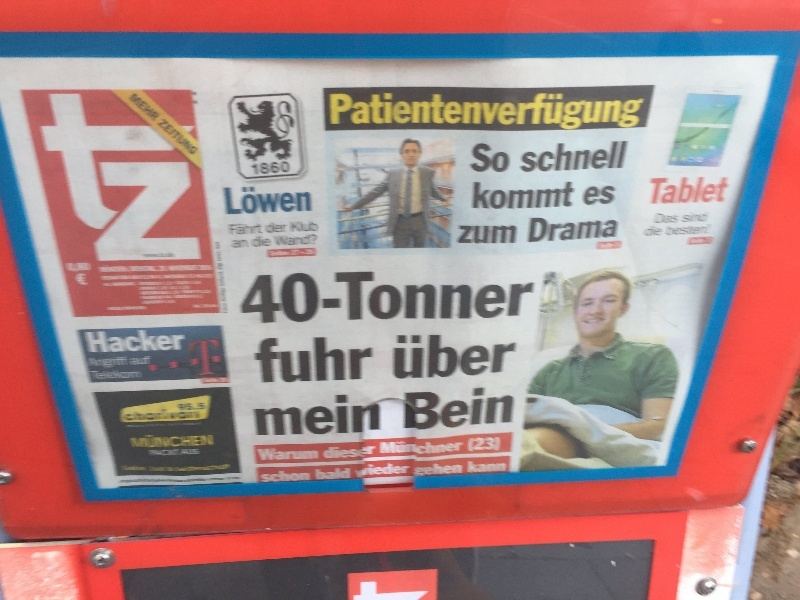text: (33, 87, 48, 269), (49, 87, 64, 269), (65, 87, 80, 269), (81, 87, 96, 269), (97, 87, 112, 269), (113, 87, 128, 269), (129, 87, 144, 269), (145, 87, 160, 269), (161, 87, 176, 269), (177, 87, 192, 269), (193, 87, 208, 269), (145, 86, 160, 163), (161, 86, 176, 163), (177, 86, 192, 163), (131, 86, 144, 163), (241, 267, 256, 329), (257, 267, 272, 329), (273, 267, 288, 329), (289, 267, 304, 329), (305, 267, 320, 329), (321, 267, 336, 329), (337, 267, 352, 329), (353, 267, 368, 329), (369, 267, 384, 329), (385, 267, 400, 329), (401, 267, 416, 329), (417, 267, 432, 329), (433, 267, 448, 329), (449, 267, 464, 329), (465, 267, 480, 329), (481, 267, 496, 329), (497, 267, 512, 329), (513, 267, 528, 329), (193, 86, 205, 163), (209, 87, 214, 269), (257, 328, 272, 386), (273, 328, 288, 386), (289, 328, 304, 386), (305, 328, 320, 386), (321, 328, 336, 386), (337, 328, 352, 386), (353, 328, 368, 386), (401, 333, 416, 386), (417, 333, 432, 386), (433, 333, 448, 386), (449, 333, 464, 386), (465, 333, 480, 386), (481, 333, 496, 386), (497, 333, 512, 386), (113, 264, 128, 316), (129, 264, 144, 316), (145, 264, 160, 316), (161, 264, 176, 316), (177, 264, 192, 316), (193, 264, 208, 316), (257, 387, 272, 438), (273, 387, 288, 438), (289, 387, 304, 438), (305, 387, 320, 438), (321, 387, 336, 438), (337, 387, 352, 438), (353, 387, 368, 438), (369, 387, 384, 438), (28, 87, 32, 269), (417, 387, 432, 434), (433, 387, 448, 434), (449, 387, 464, 434), (465, 387, 480, 434), (481, 387, 496, 434), (497, 387, 512, 434), (99, 264, 112, 316), (193, 338, 208, 380), (529, 267, 539, 329), (337, 92, 352, 133), (353, 92, 368, 133), (369, 92, 384, 133), (385, 92, 400, 133), (401, 92, 416, 133), (417, 92, 432, 133), (433, 92, 448, 133), (449, 92, 464, 133), (465, 92, 480, 133), (481, 92, 496, 133), (497, 92, 512, 133), (513, 92, 528, 133), (529, 92, 544, 133), (545, 92, 560, 133), (561, 92, 576, 133), (577, 92, 592, 133), (593, 92, 608, 133), (609, 92, 624, 133), (625, 92, 640, 133), (389, 333, 400, 386), (404, 387, 416, 434), (209, 338, 222, 380), (529, 139, 544, 175), (545, 139, 560, 175), (561, 139, 576, 175), (577, 139, 592, 175), (593, 139, 608, 175), (609, 139, 624, 175), (561, 178, 577, 211), (225, 183, 240, 218), (241, 183, 256, 218), (257, 183, 272, 218), (273, 183, 288, 218), (289, 183, 304, 218), (209, 264, 219, 316), (481, 178, 496, 211), (497, 178, 512, 211), (513, 178, 528, 211), (529, 178, 544, 211), (545, 178, 560, 211), (481, 143, 496, 175), (497, 143, 512, 175), (129, 396, 144, 428), (145, 396, 160, 428), (161, 396, 176, 428), (177, 396, 192, 428), (193, 396, 208, 428), (97, 327, 112, 358), (113, 327, 128, 358), (129, 327, 144, 358), (145, 327, 160, 358), (161, 327, 176, 358), (657, 177, 672, 207), (673, 177, 688, 207), (689, 177, 704, 207), (705, 177, 720, 207), (82, 327, 96, 358), (513, 333, 521, 386), (545, 218, 560, 246), (561, 218, 576, 246), (577, 218, 592, 246), (593, 218, 608, 246), (249, 328, 256, 386), (369, 328, 376, 386), (593, 183, 608, 210), (530, 218, 544, 246), (609, 218, 623, 246), (721, 177, 734, 207), (177, 327, 188, 358), (465, 223, 480, 245), (481, 223, 496, 245), (497, 223, 512, 245), (328, 92, 336, 133), (66, 263, 80, 286), (305, 183, 314, 218), (471, 178, 480, 211), (471, 143, 480, 175), (449, 461, 465, 479), (81, 263, 93, 286), (582, 183, 592, 210), (353, 462, 368, 480), (369, 462, 384, 480), (385, 462, 400, 480), (417, 461, 432, 479), (433, 461, 448, 479), (257, 159, 272, 177), (273, 159, 288, 177), (481, 437, 496, 455), (257, 446, 272, 463), (273, 446, 288, 463), (289, 446, 304, 463), (305, 446, 320, 463), (129, 433, 144, 450), (145, 433, 160, 450), (161, 433, 176, 450), (177, 433, 192, 450), (193, 433, 208, 450), (521, 139, 528, 175), (625, 139, 632, 175), (641, 92, 647, 133), (609, 183, 618, 210), (648, 177, 656, 207), (273, 468, 288, 484), (289, 468, 304, 484), (337, 445, 352, 461), (353, 445, 368, 461), (257, 236, 273, 251), (513, 387, 518, 434), (321, 467, 336, 482), (241, 222, 256, 237), (322, 445, 336, 461), (305, 219, 321, 233), (121, 396, 128, 428), (468, 437, 480, 455), (337, 467, 351, 482), (385, 441, 400, 455), (401, 441, 416, 455), (417, 441, 432, 455), (433, 441, 448, 455), (449, 441, 464, 455), (273, 233, 288, 247), (289, 233, 304, 247), (305, 233, 320, 247), (289, 219, 304, 233), (226, 222, 240, 237), (657, 212, 672, 226), (689, 211, 704, 225), (97, 356, 112, 370), (113, 356, 128, 370), (129, 356, 144, 370), (259, 468, 272, 484), (252, 387, 256, 438), (401, 462, 412, 480), (481, 461, 496, 474), (237, 267, 240, 329), (673, 225, 688, 237), (689, 225, 704, 237), (467, 461, 480, 474), (273, 223, 288, 234), (457, 223, 464, 245), (97, 370, 112, 380), (113, 370, 128, 380), (369, 445, 378, 461), (248, 159, 256, 177), (220, 183, 224, 218), (129, 370, 143, 380), (257, 222, 266, 237), (161, 448, 176, 457), (177, 448, 192, 457), (513, 223, 519, 245), (644, 226, 656, 237), (497, 461, 507, 474), (189, 338, 192, 380), (497, 437, 504, 455), (129, 464, 144, 472), (145, 464, 160, 472), (161, 464, 176, 472), (177, 464, 192, 472), (193, 464, 208, 472), (209, 464, 224, 472), (209, 433, 216, 450), (147, 448, 160, 457), (305, 468, 312, 484), (231, 238, 240, 250), (241, 238, 250, 250), (673, 212, 680, 226), (89, 356, 96, 370), (209, 396, 212, 428), (705, 225, 713, 237), (314, 467, 320, 482), (657, 226, 665, 237), (682, 211, 688, 225), (665, 225, 672, 237), (145, 356, 151, 370), (193, 448, 202, 457), (265, 223, 272, 234), (289, 159, 293, 177), (119, 464, 128, 472), (379, 441, 384, 455), (705, 211, 710, 225), (252, 236, 256, 251), (225, 464, 232, 472), (653, 212, 656, 226), (94, 370, 96, 380), (415, 461, 416, 479), (465, 441, 466, 455)
